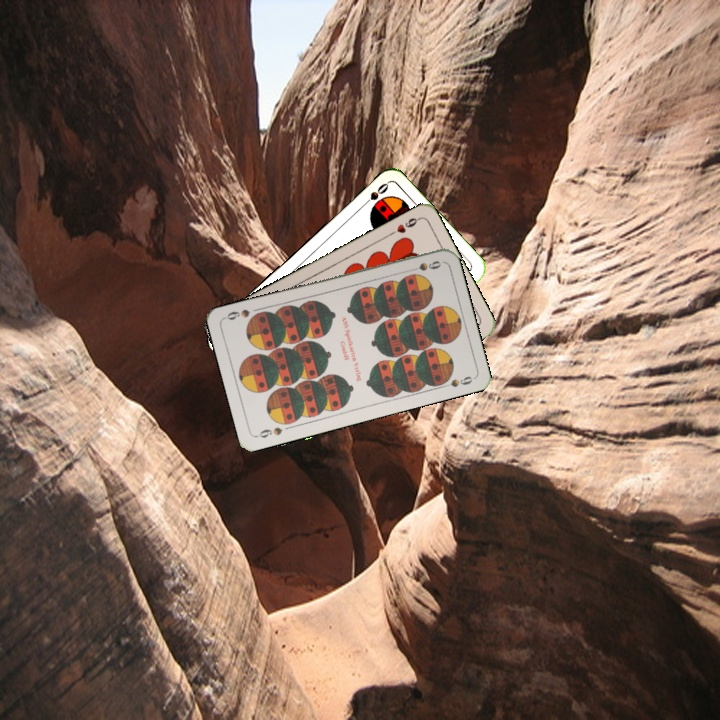H9: (385, 213, 422, 239)
S9: (253, 423, 285, 441), (412, 257, 444, 273)
SO: (357, 179, 391, 210)
